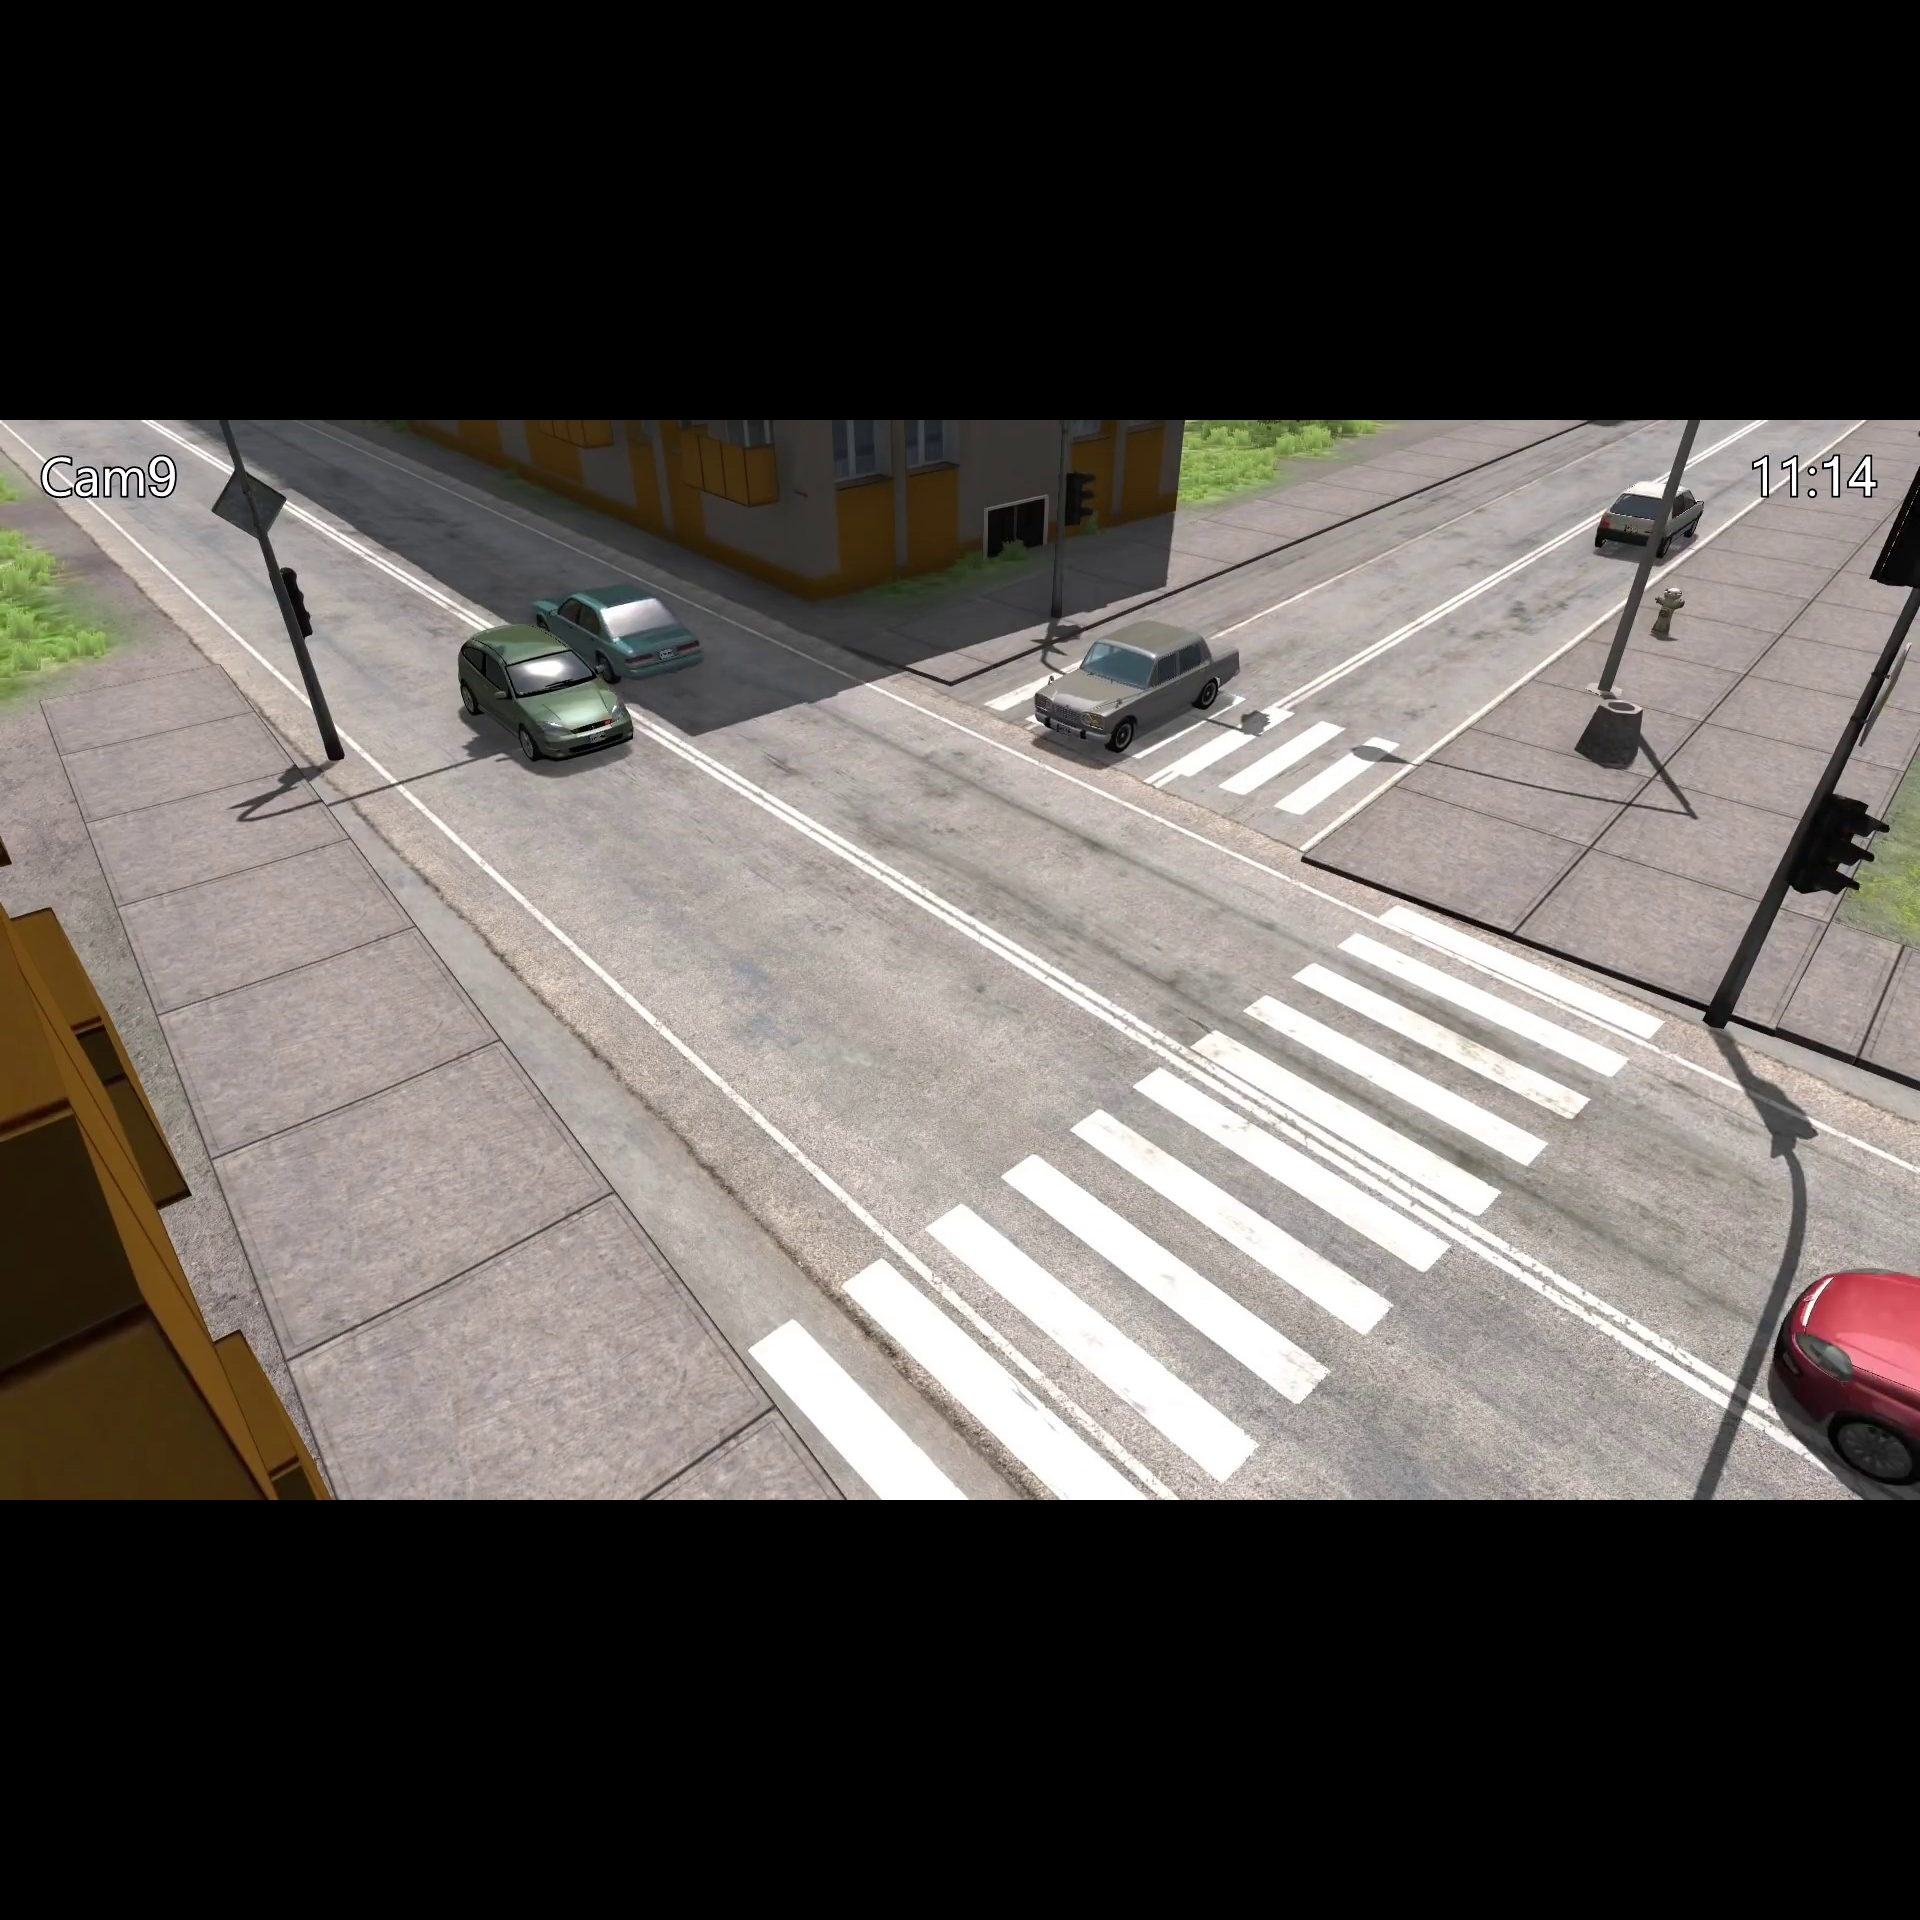vehicle: (1764, 1248, 1920, 1493), (1029, 614, 1259, 760), (447, 619, 642, 772), (526, 577, 707, 693), (1588, 476, 1718, 570)
